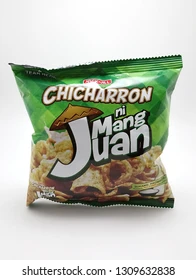non-toxic_waste: (7, 60, 183, 213)
